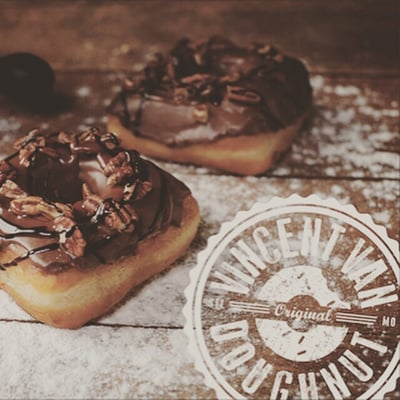salad: (0, 115, 201, 331)
sandwich: (0, 115, 201, 331)
steak: (197, 204, 400, 400)
